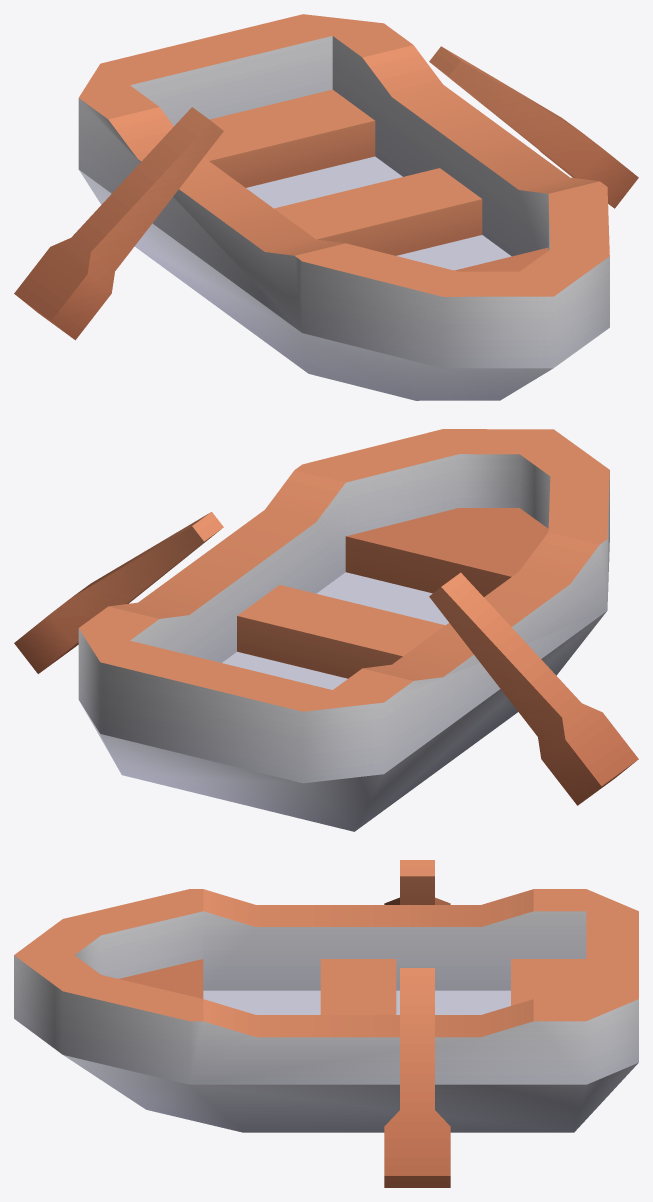
File: boat_row.glb
The picture shows the model from 3 angles, top to bottom: view 1: azimuth 30°, elevation 25°; view 2: azimuth 150°, elevation 25°; view 3: azimuth 270°, elevation 25°; orthographic projection. The views are drawn at different scales.
Visible parts, largest first — view 1: boat-row-large; view 2: boat-row-large; view 3: boat-row-large.
Boxes of the visible parts, x1,y1,x2,y2 form: boat-row-large: [14, 14, 638, 400]; boat-row-large: [14, 429, 638, 831]; boat-row-large: [14, 860, 638, 1187].
Size of the model in its own units: 2.75 by 0.8475 by 2.85.
Materials: 1 (1 with a texture image).
